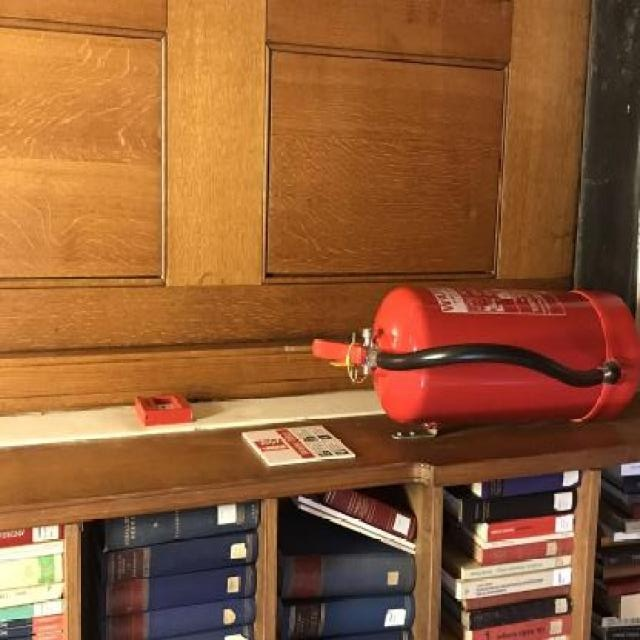fire extinguisher: (305, 276, 639, 424)
